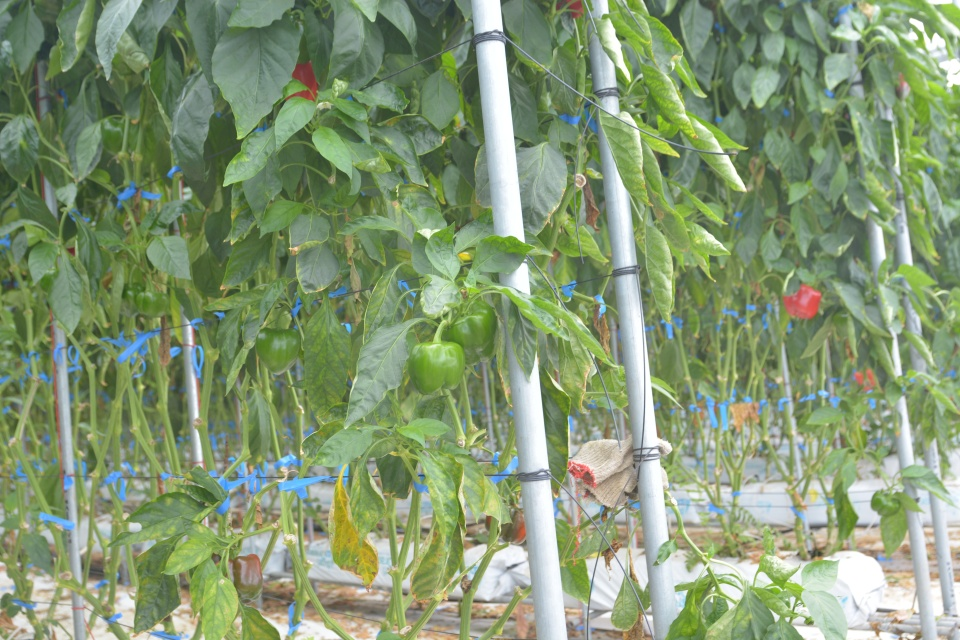fruit: (439, 298, 500, 367), (407, 338, 466, 396), (214, 553, 264, 606), (254, 325, 302, 376), (484, 497, 526, 546), (781, 281, 822, 319), (282, 58, 318, 101), (869, 487, 902, 518)
pedicle: (453, 306, 473, 317)
